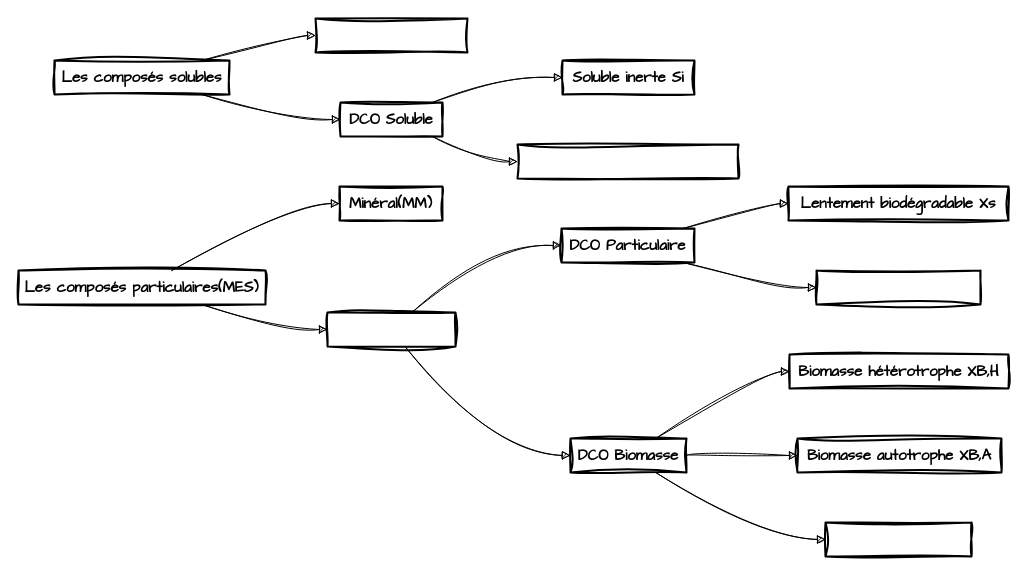
Image size: 1026x574. Some labels were removed from this diagram. Each missing label, with the centre of its shape:
"Facilement biodégradable Ss" belongs at pixel 627 161.
"Organique(MVS)" belongs at pixel 391 329.
"Oxygène dissous So" belongs at pixel 391 35.
"Particulaire inerte Xi" belongs at pixel 898 287.
"Résidus de lyse Xp" belongs at pixel 898 539.
